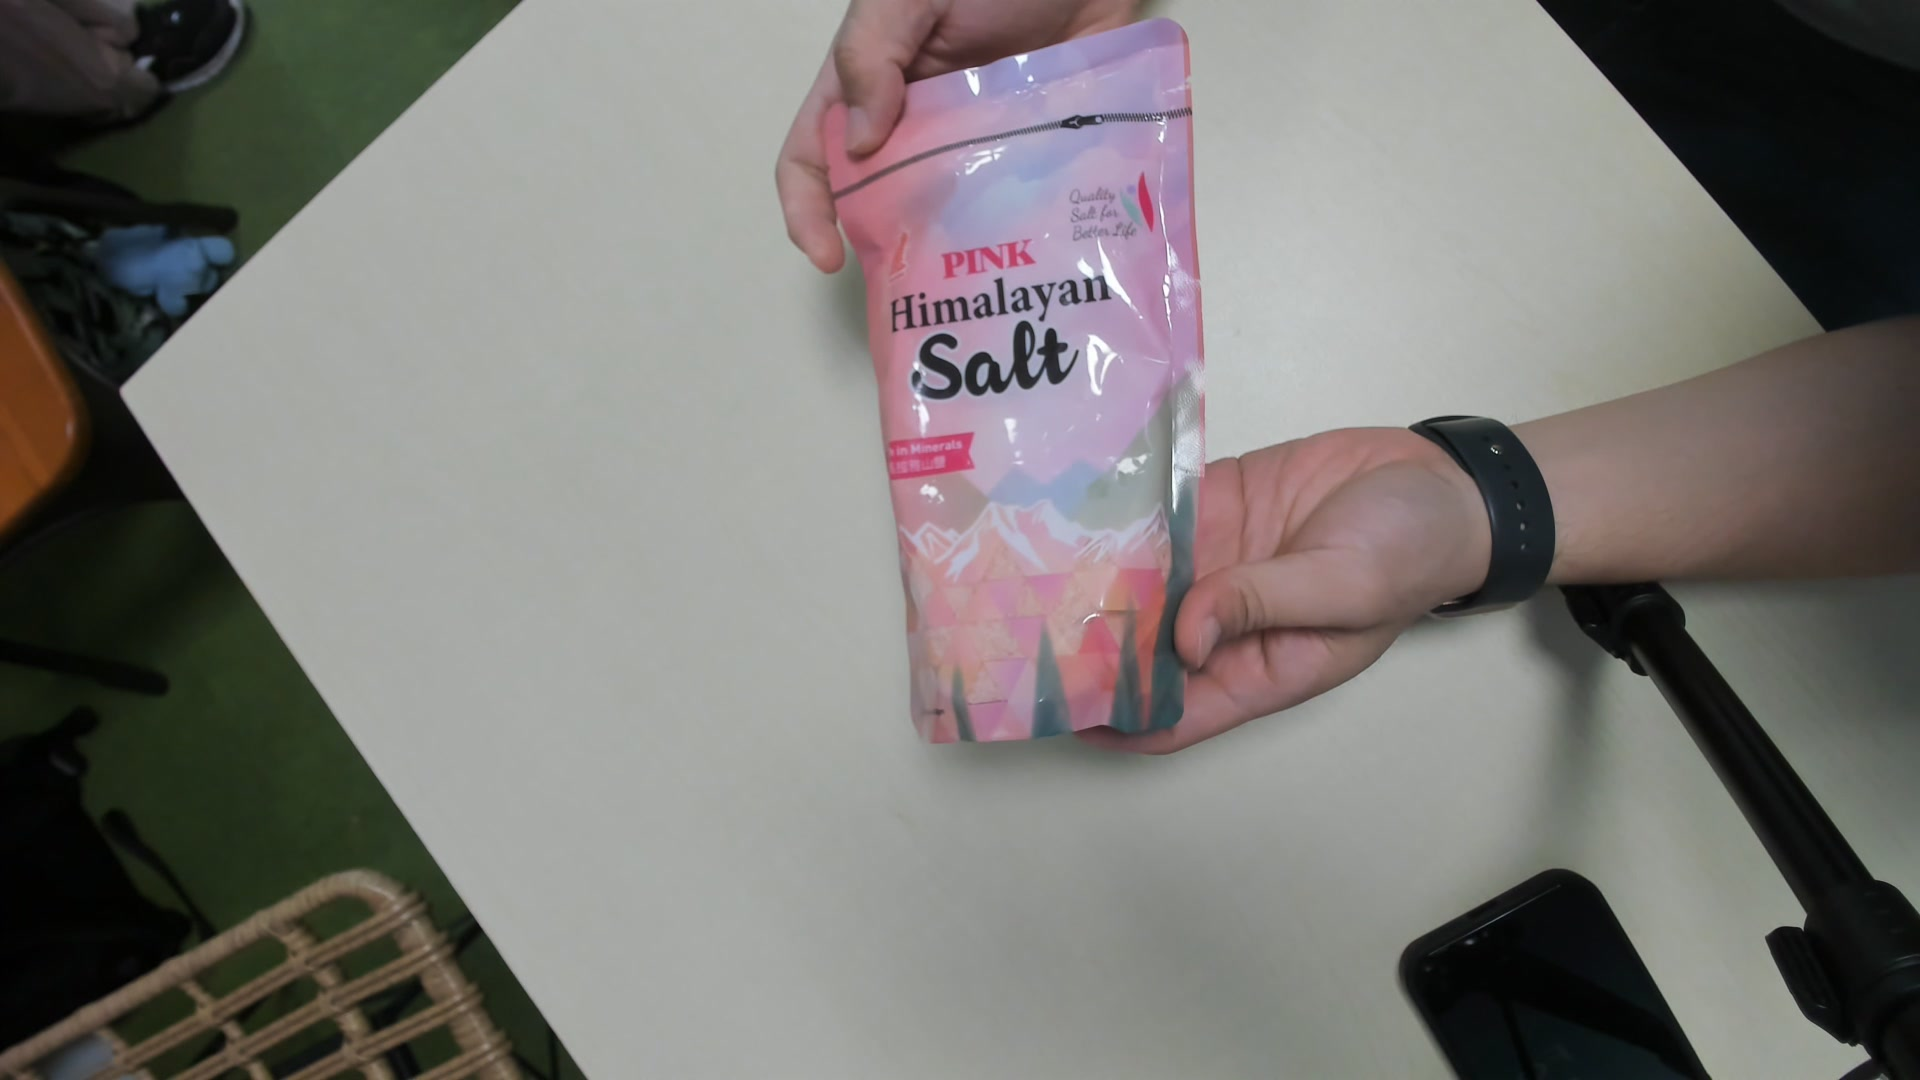Salt_400-499g_NonHalal_NonHealthy: (847, 21, 1199, 757)
